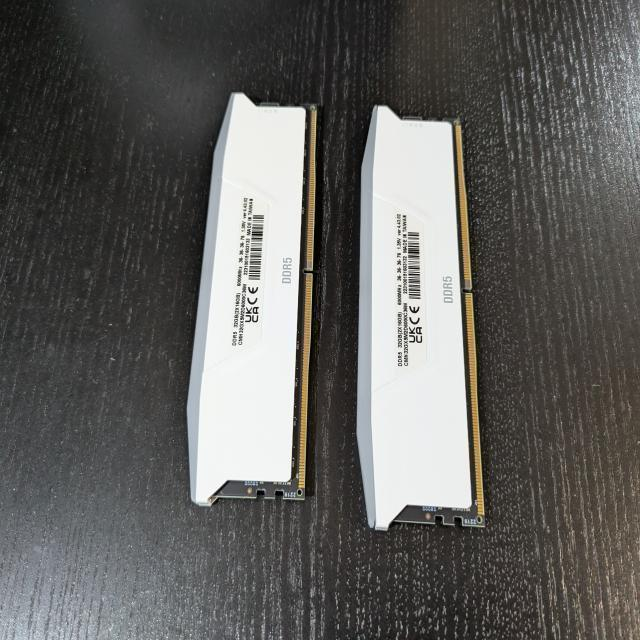RAM: (352, 105, 488, 529), (182, 90, 319, 506)
